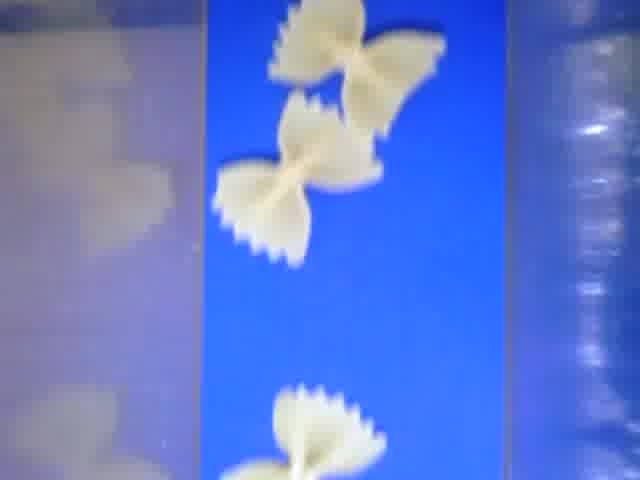farfalle: (214, 87, 384, 266), (265, 1, 447, 134), (222, 383, 385, 480)
